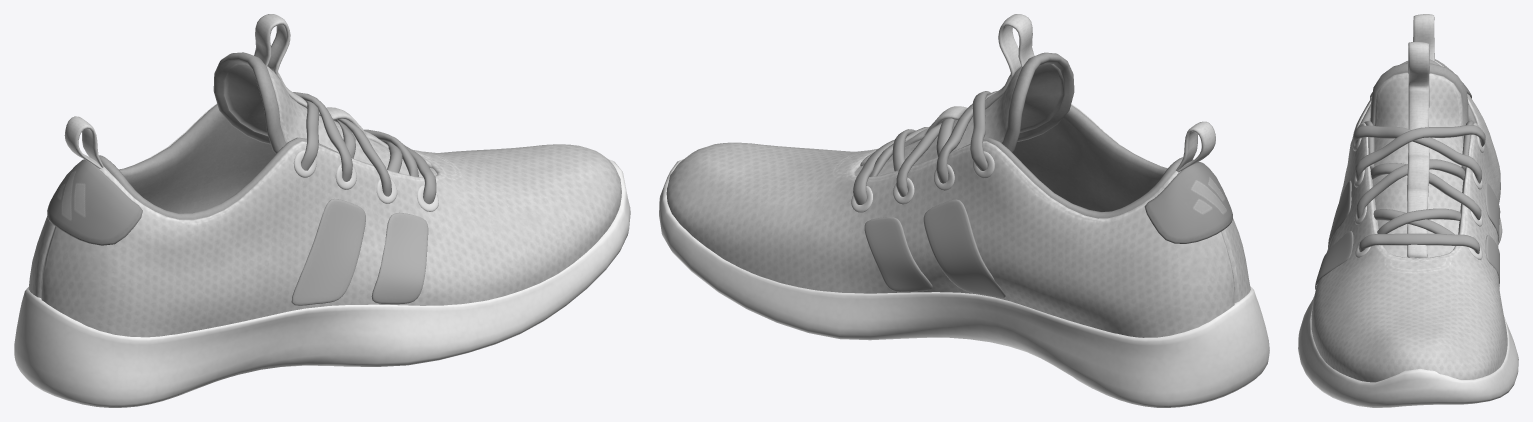
Rendered from runner-v1.glb.
3 renders of one model, left to right at view 1: azimuth 30°, elevation 25°; view 2: azimuth 150°, elevation 25°; view 3: azimuth 270°, elevation 25°, orthographic. The views are drawn at different scales.
Parts seen in each view (by area): view 1: upper_17, sole_50, sole_49, upper_10, panel_58, panel_63, panel_68, upper_18, laces_08, laces_07, laces_09, panel_13 (+11 smaller); view 2: upper_18, sole_54, sole_49, upper_16, panel_58, panel_73, upper_17, panel_78, laces_08, laces_09, laces_07, panel_12 (+12 smaller); view 3: upper_17, upper_18, laces_07, sole_56, upper_27, sole_50, laces_00, laces_06, laces_01, laces_08, laces_02, laces_03 (+12 smaller).
Boxes of the visible parts, x1,y1,x2,y2 form: upper_17: (41, 141, 621, 337); sole_50: (134, 243, 607, 406); sole_49: (14, 291, 136, 407); upper_10: (125, 115, 275, 213); panel_58: (47, 159, 142, 245); panel_63: (292, 199, 365, 305); panel_68: (372, 213, 428, 304); upper_18: (28, 144, 601, 297); laces_08: (213, 52, 286, 153); laces_07: (267, 66, 437, 177); laces_09: (224, 64, 267, 135); panel_13: (99, 137, 338, 219); upper_18: (666, 141, 1234, 337); sole_54: (690, 243, 1146, 406); sole_49: (1143, 292, 1269, 407); upper_16: (1012, 114, 1162, 211); panel_58: (1144, 162, 1232, 243); panel_73: (923, 199, 1004, 298); upper_17: (693, 142, 1250, 302); panel_78: (864, 217, 931, 291); laces_08: (1002, 52, 1074, 152); laces_09: (1020, 64, 1063, 132); laces_07: (854, 66, 1021, 176); panel_12: (958, 138, 1181, 218); upper_17: (1311, 97, 1417, 382); upper_18: (1417, 61, 1507, 379); laces_07: (1372, 73, 1463, 258); sole_56: (1341, 369, 1500, 407); upper_27: (1407, 42, 1428, 257); sole_50: (1298, 296, 1346, 401); laces_00: (1355, 125, 1485, 180); laces_06: (1359, 233, 1479, 253); laces_01: (1353, 125, 1481, 183); laces_08: (1370, 63, 1468, 137); laces_02: (1356, 159, 1464, 218); laces_03: (1370, 163, 1481, 219).
Size of the model in its own units: 3 by 1.54 by 1.17.
4 materials, 4 textured.
